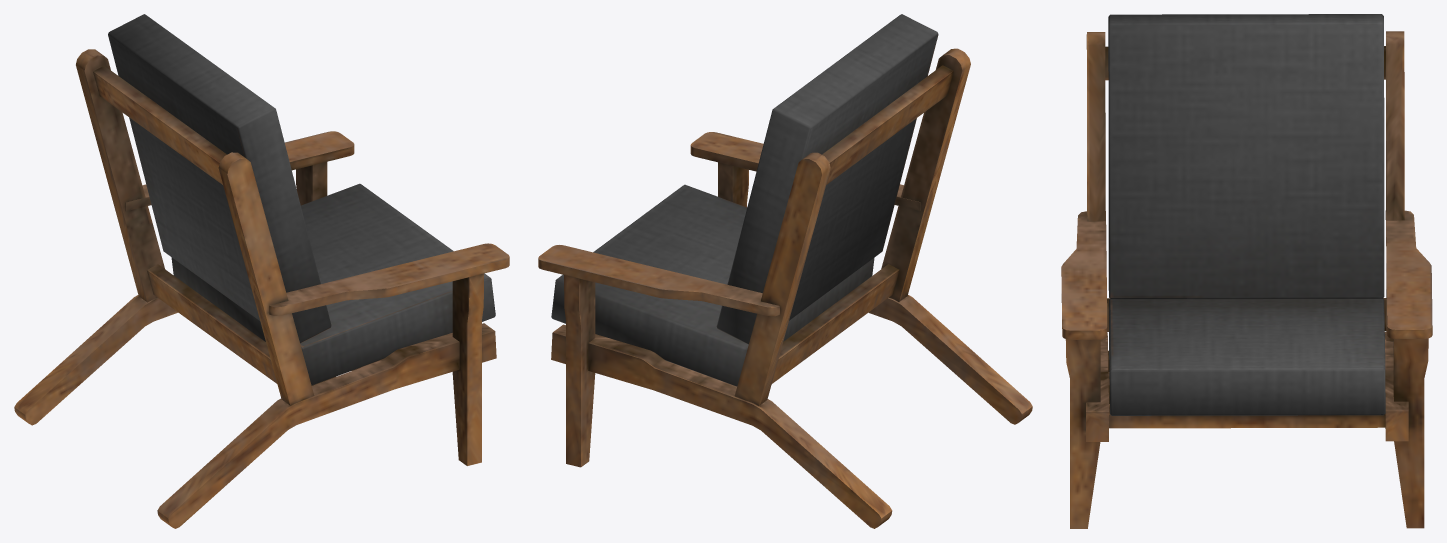
Rendered from chair6.fbx.
3 renders of one model, left to right at view 1: azimuth 30°, elevation 25°; view 2: azimuth 150°, elevation 25°; view 3: azimuth 270°, elevation 25°, orthographic. The views are drawn at different scales.
Visible parts, largest first — view 1: pCube815.007; view 2: pCube815.007; view 3: pCube815.007.
Boxes of the visible parts, bbox=[...] form: pCube815.007: bbox=[14, 14, 509, 528]; pCube815.007: bbox=[538, 14, 1032, 528]; pCube815.007: bbox=[1061, 14, 1432, 528].
Bounding box in the file's own units: 0.7396 × 0.7991 × 0.6575.
1 material, 1 textured.
